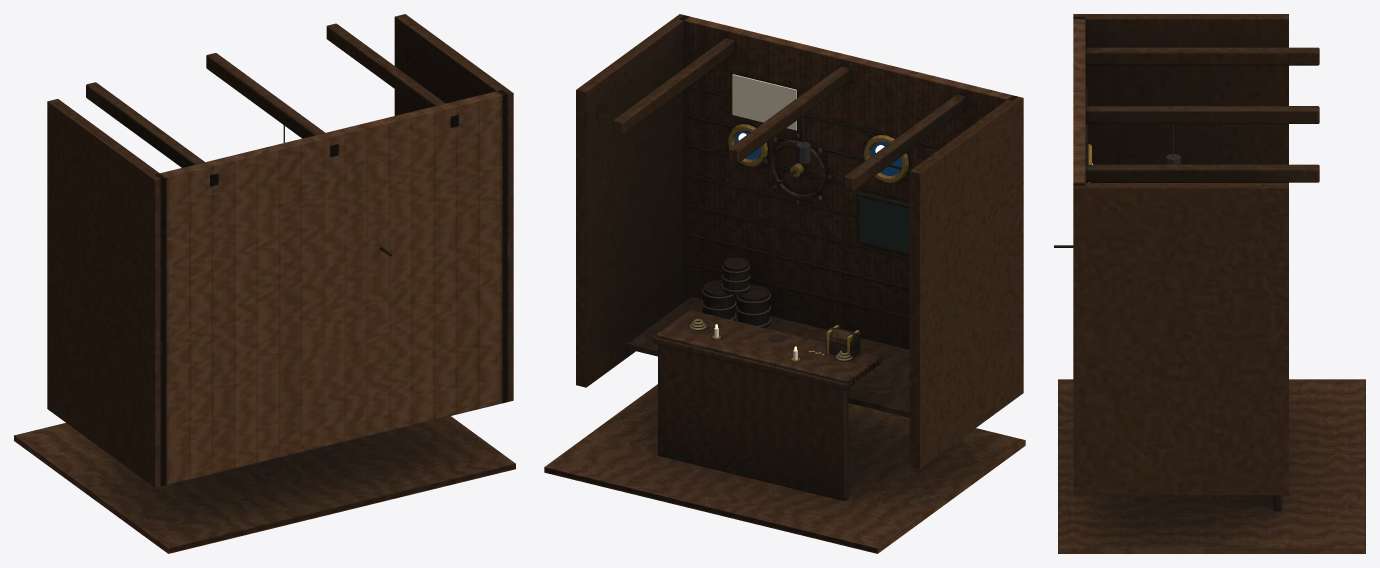
Rendered from loc_pirate.glb.
3 views of the same model, side by side, from view 1: azimuth 30°, elevation 25°; view 2: azimuth 150°, elevation 25°; view 3: azimuth 270°, elevation 25° (orthographic). The views are drawn at different scales.
Visible parts, largest first — view 1: M_deck, M_hull; view 2: M_hull, M_deck, CHALKBOARD, M_sail, M_brass, M_hoop; view 3: M_hull, M_deck.
Boxes of the visible parts, x1,y1,x2,y2 form: M_deck: (14, 90, 515, 553); M_hull: (47, 14, 513, 487); M_hull: (576, 14, 1023, 500); M_deck: (544, 15, 1025, 553); CHALKBOARD: (859, 196, 909, 253); M_sail: (732, 74, 796, 130); M_brass: (712, 124, 908, 361); M_hoop: (701, 115, 810, 326); M_hull: (1073, 14, 1319, 511); M_deck: (1054, 16, 1365, 553).
Bounding box in the file's own units: 2.68 × 2.64 × 2.03.
14 materials, 5 textured.
